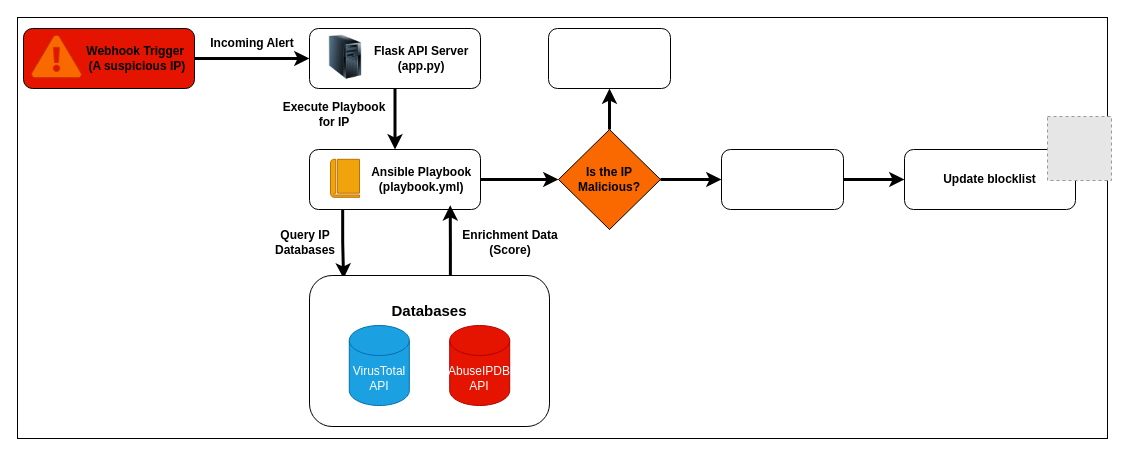
The diagram is 1129 pixels wide and 456 high, and some of its shapes have lost their labels. Grey dashed boxes stand in for pictures. The shapes that lost their labels are listed below. From the top down, each one's centre as x and y in pixels, then its label:
At (x=609, y=58): "NO (No action)".
At (x=782, y=179): "YES".
